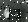person: (5, 8, 11, 20), (15, 10, 21, 19)
